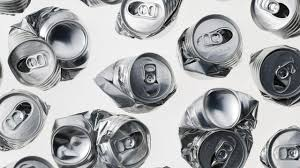Metal: (7, 6, 90, 92), (179, 88, 259, 168), (51, 109, 151, 168), (94, 53, 178, 114), (177, 14, 244, 77), (0, 88, 50, 152), (250, 45, 300, 107), (115, 0, 183, 40), (251, 0, 300, 38), (260, 124, 300, 168)
